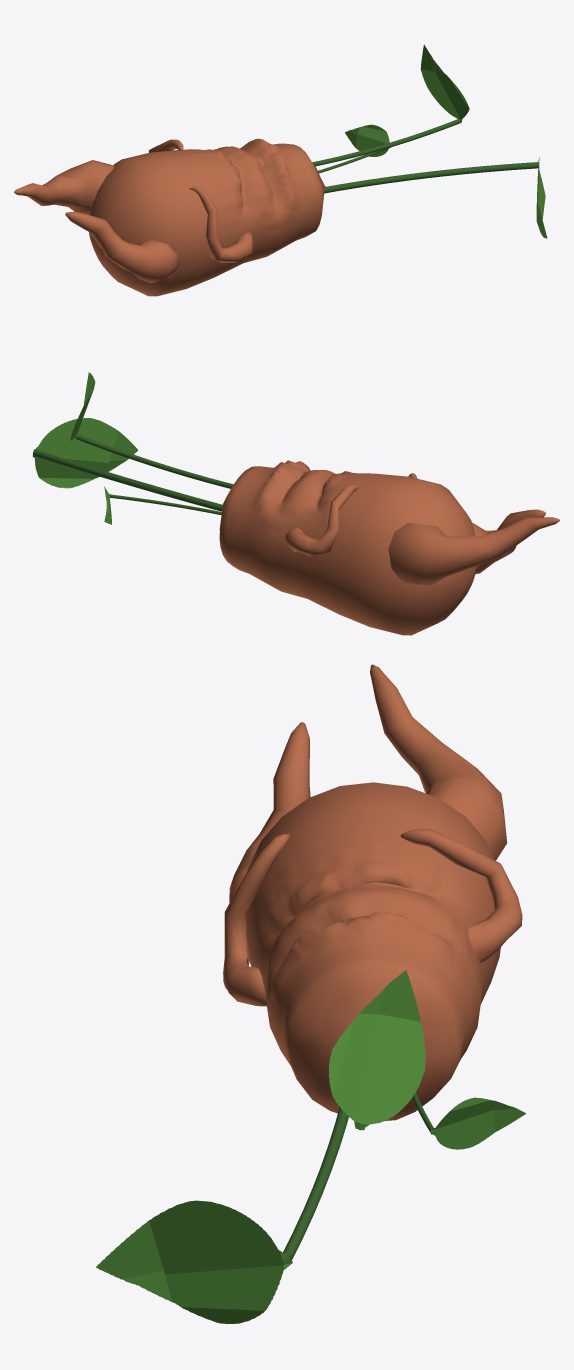
File: Mandragora_Inteira.fbx
The picture shows the model from 3 angles, top to bottom: view 1: azimuth 30°, elevation 25°; view 2: azimuth 150°, elevation 25°; view 3: azimuth 270°, elevation 25°; orthographic projection. The views are drawn at different scales.
Parts seen in each view (by area): view 1: Cylinder.001; view 2: Cylinder.001; view 3: Cylinder.001.
Part boxes in pixels (x1,y1,x2,y2): Cylinder.001: (14, 44, 547, 296); Cylinder.001: (32, 372, 559, 635); Cylinder.001: (96, 664, 525, 1323).
Size of the model in its own units: 67.75 by 28.38 by 34.02.
3 materials, 1 textured.
